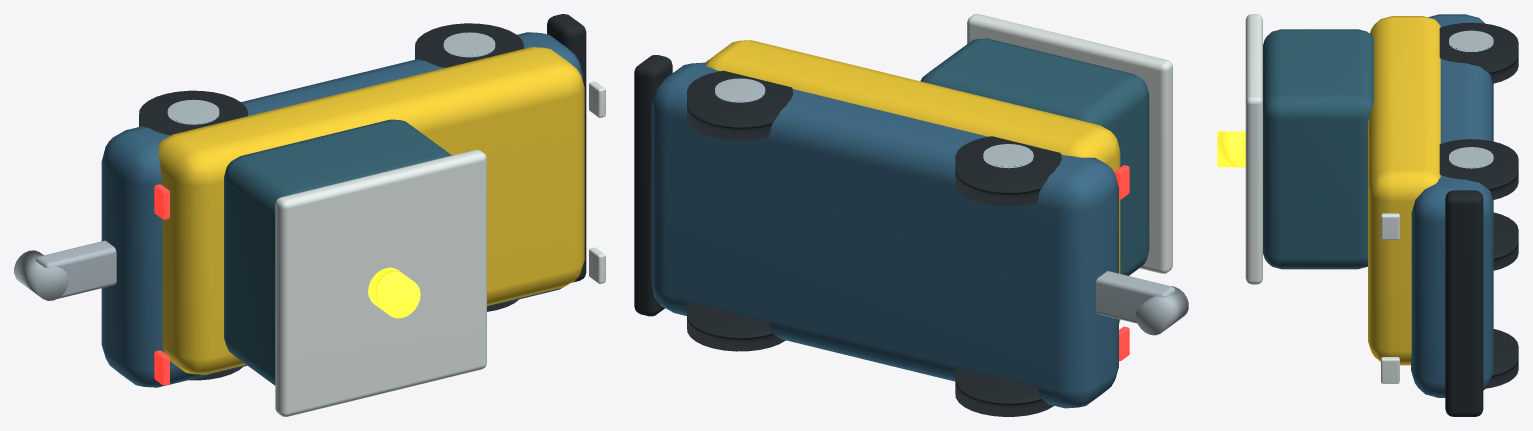
Rendered from hero_airport_tug.glb.
3 views of the same model, side by side, from view 1: azimuth 30°, elevation 25°; view 2: azimuth 150°, elevation 25°; view 3: azimuth 270°, elevation 25° (orthographic). The views are drawn at different scales.
Visible parts, largest first — view 1: Tug yellow body, Tug cab roof, Tug glazed cabin, Tug lower chassis, Tug rear tow beam, Tug heavy tire.001, Tug heavy tire.003, Tug front impact bumper, Tug beacon, Tug coupling pin, Tug wheel rim.003, Tug wheel rim.001 (+2 smaller); view 2: Tug lower chassis, Tug glazed cabin, Tug yellow body, Tug cab roof, Tug front impact bumper, Tug heavy tire.001, Tug heavy tire.003, Tug heavy tire, Tug heavy tire.002, Tug rear tow beam, Tug coupling pin, Tug wheel rim.003 (+1 smaller); view 3: Tug glazed cabin, Tug yellow body, Tug lower chassis, Tug front impact bumper, Tug cab roof, Tug heavy tire.003, Tug heavy tire.001, Tug heavy tire.002, Tug heavy tire, Tug beacon, Tug wheel rim.003, Tug wheel rim.001 (+2 smaller).
Boxes of the visible parts, x1,y1,x2,y2 form: Tug yellow body: (158, 47, 584, 374); Tug cab roof: (275, 150, 486, 416); Tug glazed cabin: (224, 119, 451, 385); Tug lower chassis: (101, 32, 583, 387); Tug rear tow beam: (36, 240, 116, 298); Tug heavy tire.001: (139, 90, 248, 135); Tug heavy tire.003: (415, 23, 523, 67); Tug front impact bumper: (547, 14, 586, 282); Tug beacon: (368, 267, 420, 318); Tug coupling pin: (14, 250, 68, 300); Tug wheel rim.003: (443, 32, 495, 57); Tug wheel rim.001: (167, 99, 219, 124); Tug lower chassis: (651, 62, 1118, 408); Tug glazed cabin: (920, 38, 1149, 275); Tug yellow body: (706, 40, 1120, 323); Tug cab roof: (967, 14, 1172, 273); Tug front impact bumper: (634, 55, 672, 316); Tug heavy tire.001: (955, 136, 1061, 206); Tug heavy tire.003: (687, 70, 793, 140); Tug heavy tire: (955, 367, 1053, 416); Tug heavy tire.002: (687, 301, 785, 351); Tug rear tow beam: (1096, 271, 1175, 323); Tug coupling pin: (1136, 286, 1188, 335); Tug wheel rim.003: (715, 78, 765, 102); Tug glazed cabin: (1263, 29, 1373, 269); Tug yellow body: (1368, 16, 1440, 365); Tug lower chassis: (1411, 14, 1493, 397); Tug front impact bumper: (1445, 190, 1483, 416); Tug cab roof: (1245, 14, 1262, 284); Tug heavy tire.003: (1439, 139, 1518, 199); Tug heavy tire.001: (1439, 22, 1518, 83); Tug heavy tire.002: (1486, 329, 1518, 388); Tug heavy tire: (1493, 212, 1518, 270); Tug beacon: (1217, 131, 1245, 167); Tug wheel rim.003: (1449, 147, 1493, 168); Tug wheel rim.001: (1449, 30, 1493, 51).
Bounding box in the file's own units: 3.2 × 1.47 × 1.75.
